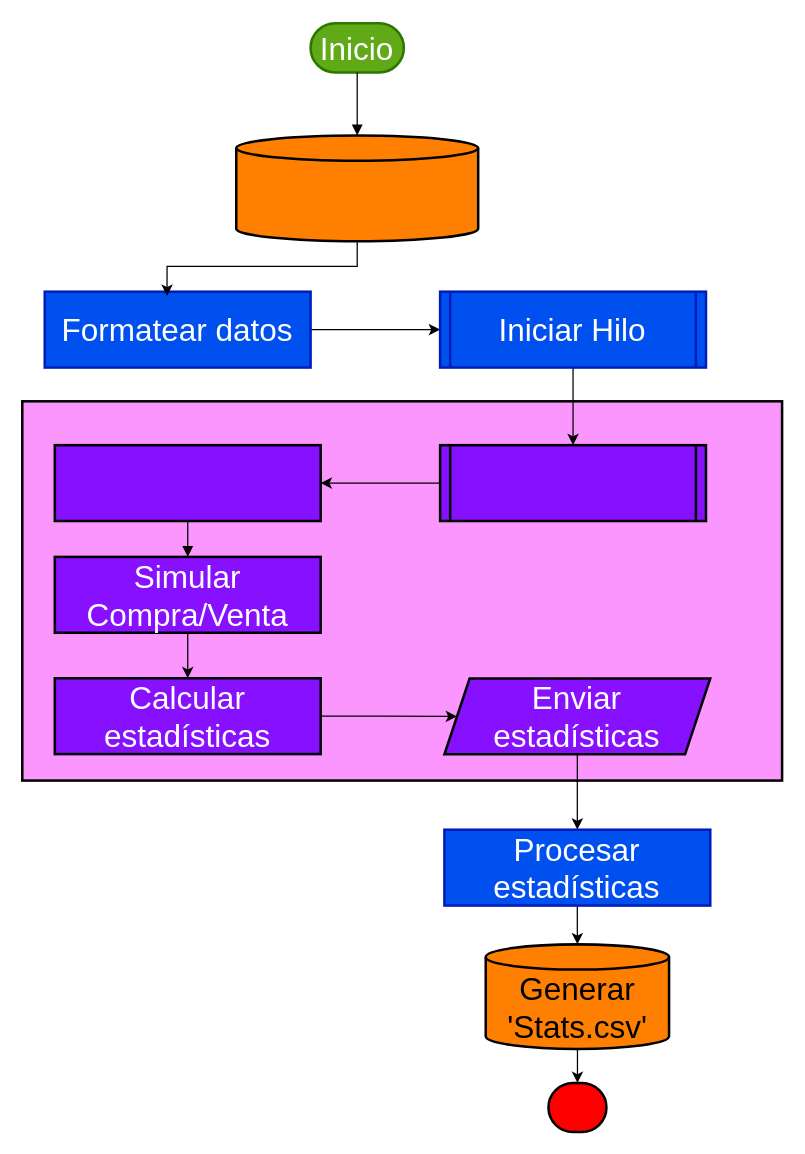
Some shapes in this 805 by 1154 pixel diagram are drawn without their labels. The box of each missing label's shape, as (x1, y1, x2, y2) in pixels:
Cargar datos: (234, 134, 479, 242)
Cargar estrategia: (438, 443, 707, 522)
Fin: (547, 1081, 607, 1133)
Iterar sobre histórico: (53, 443, 321, 522)
